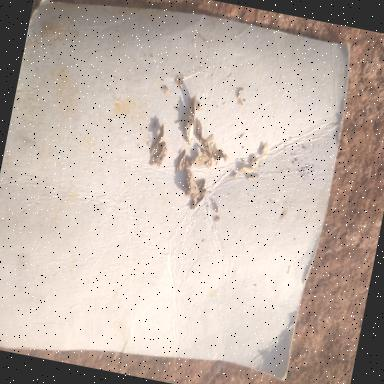pbw: (186, 94, 202, 130), (188, 186, 208, 212), (182, 106, 195, 137), (200, 138, 216, 158), (154, 140, 166, 164), (186, 119, 196, 146), (156, 146, 168, 168), (176, 148, 186, 174), (195, 178, 206, 200), (150, 138, 158, 155)
